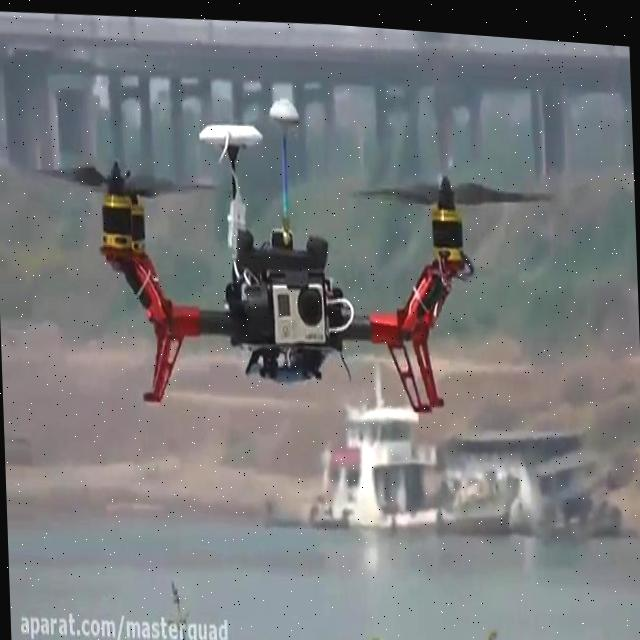drone: (27, 63, 564, 436)
